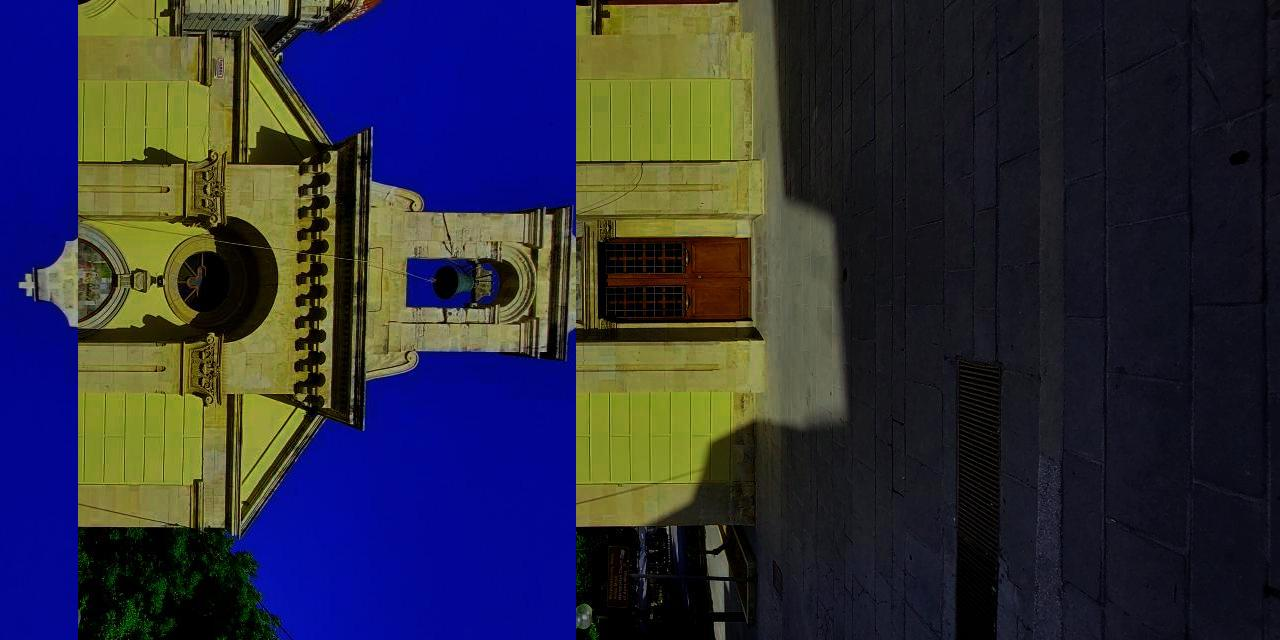Agios Minas: (79, 1, 577, 640)
